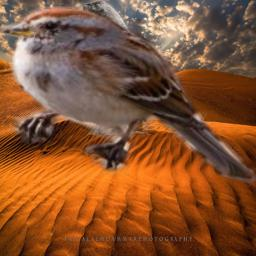Crow: (60, 0, 155, 135)
Sparrow: (0, 3, 256, 198)
